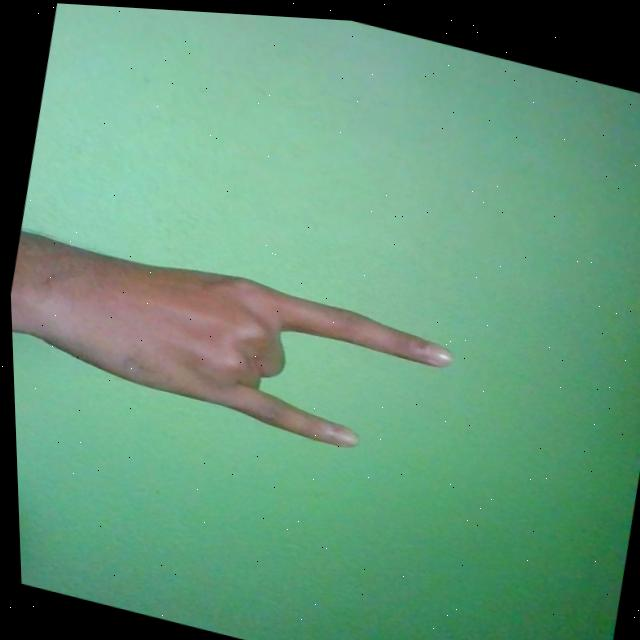Rock On: (6, 221, 459, 466)
